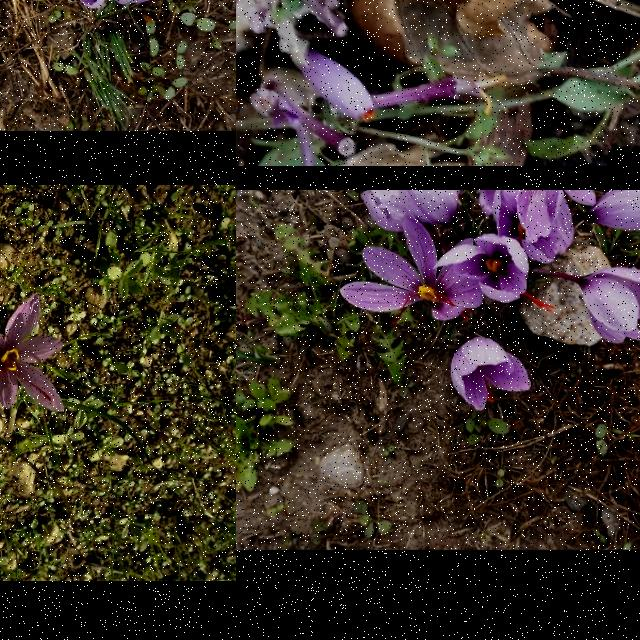flower: (0, 293, 65, 412), (451, 336, 531, 412), (298, 52, 374, 121), (573, 267, 640, 345), (583, 190, 640, 229), (109, 0, 173, 9), (71, 0, 108, 8)
overlap: (340, 190, 574, 324)
